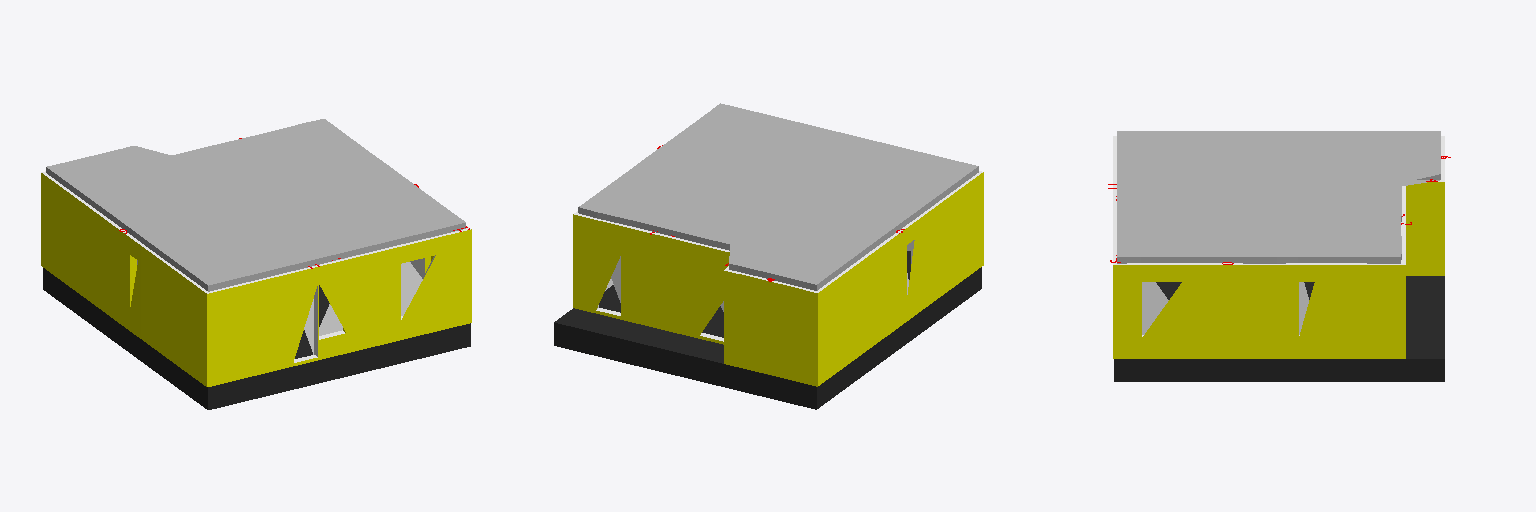
The model's file is precise_building_outline_with_openings.obj.
3 renders of one model, left to right at view 1: azimuth 30°, elevation 25°; view 2: azimuth 150°, elevation 25°; view 3: azimuth 270°, elevation 25°, orthographic.
Parts seen in each view (by area): view 1: Outline_Walls, Перекрытие, Foundation; view 2: Перекрытие, Outline_Walls, Foundation; view 3: Перекрытие, Outline_Walls, Foundation.
Boxes of the visible parts, <box> form: Outline_Walls: <box>41,171,471,386</box>; Перекрытие: <box>46,119,465,291</box>; Foundation: <box>43,268,470,409</box>; Перекрытие: <box>578,103,978,290</box>; Outline_Walls: <box>573,171,983,386</box>; Foundation: <box>554,251,981,409</box>; Перекрытие: <box>1117,131,1440,263</box>; Outline_Walls: <box>1113,136,1444,358</box>; Foundation: <box>1114,276,1444,381</box>.
Bounding box in the file's own units: 9.08 × 3.95 × 9.98.